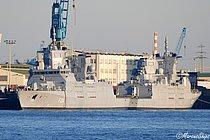MIL_Ship: (10, 35, 202, 110)
